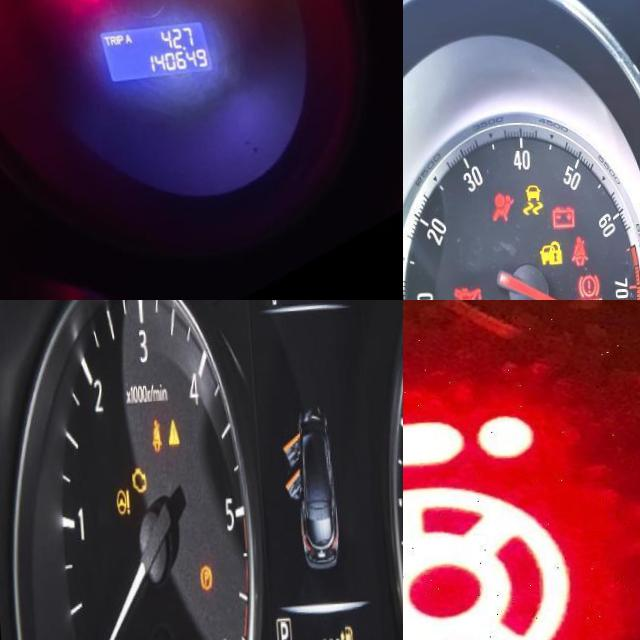Electronic Power Steering: (109, 489, 133, 520)
Electronic Power Steering Warning: (403, 421, 572, 640)
Seat Belt: (565, 239, 585, 268), (148, 420, 162, 454)
